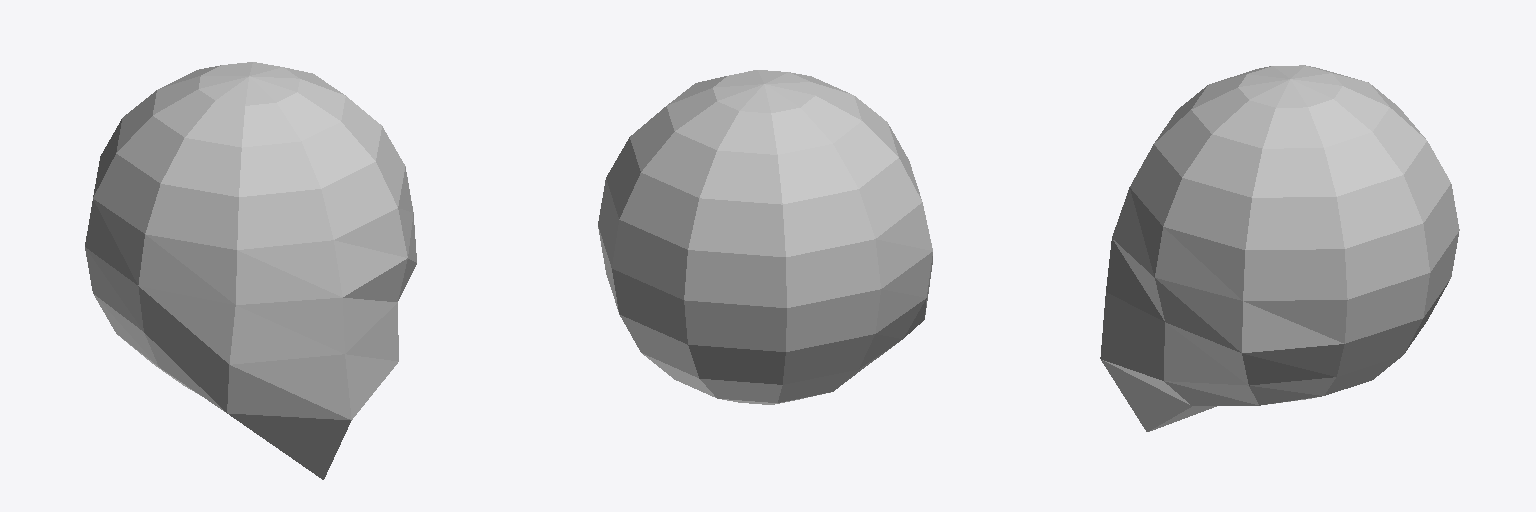
File: head3.obj
The picture shows the model from 3 angles: view 1: azimuth 30°, elevation 25°; view 2: azimuth 150°, elevation 25°; view 3: azimuth 270°, elevation 25°; orthographic projection.
Parts seen in each view (by area): view 1: Sphere; view 2: Sphere; view 3: Sphere.
Boxes of the visible parts, x1,y1,x2,y2 form: Sphere: [85, 62, 416, 479]; Sphere: [598, 70, 932, 404]; Sphere: [1100, 65, 1459, 431].
Size of the model in its own units: 0.6793 by 0.8038 by 0.7432.